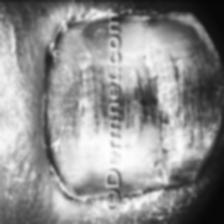Toxin: (35, 8, 223, 200)
